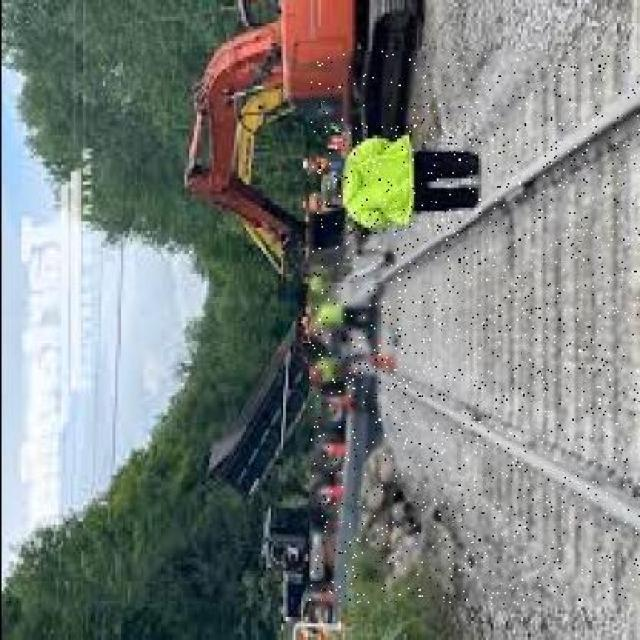rail: (309, 53, 639, 606)
